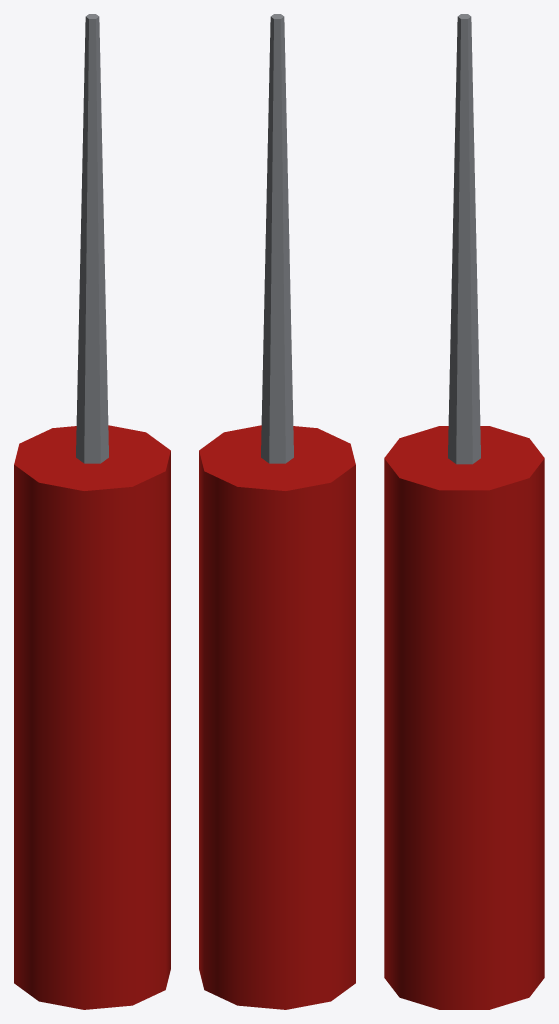
The model's file is SM_Destornillador.fbx.
3 renders of one model, left to right at view 1: azimuth 30°, elevation 25°; view 2: azimuth 150°, elevation 25°; view 3: azimuth 270°, elevation 25°, orthographic.
Visible parts, largest first — view 1: SM_Destornillador; view 2: SM_Destornillador; view 3: SM_Destornillador.
Boxes of the visible parts, x1=… form: SM_Destornillador: x1=14, y1=14, x2=170, y2=1009; SM_Destornillador: x1=199, y1=14, x2=355, y2=1009; SM_Destornillador: x1=384, y1=14, x2=544, y2=1009.
Bounding box in the file's own units: 0.0266 × 0.185 × 0.028.
